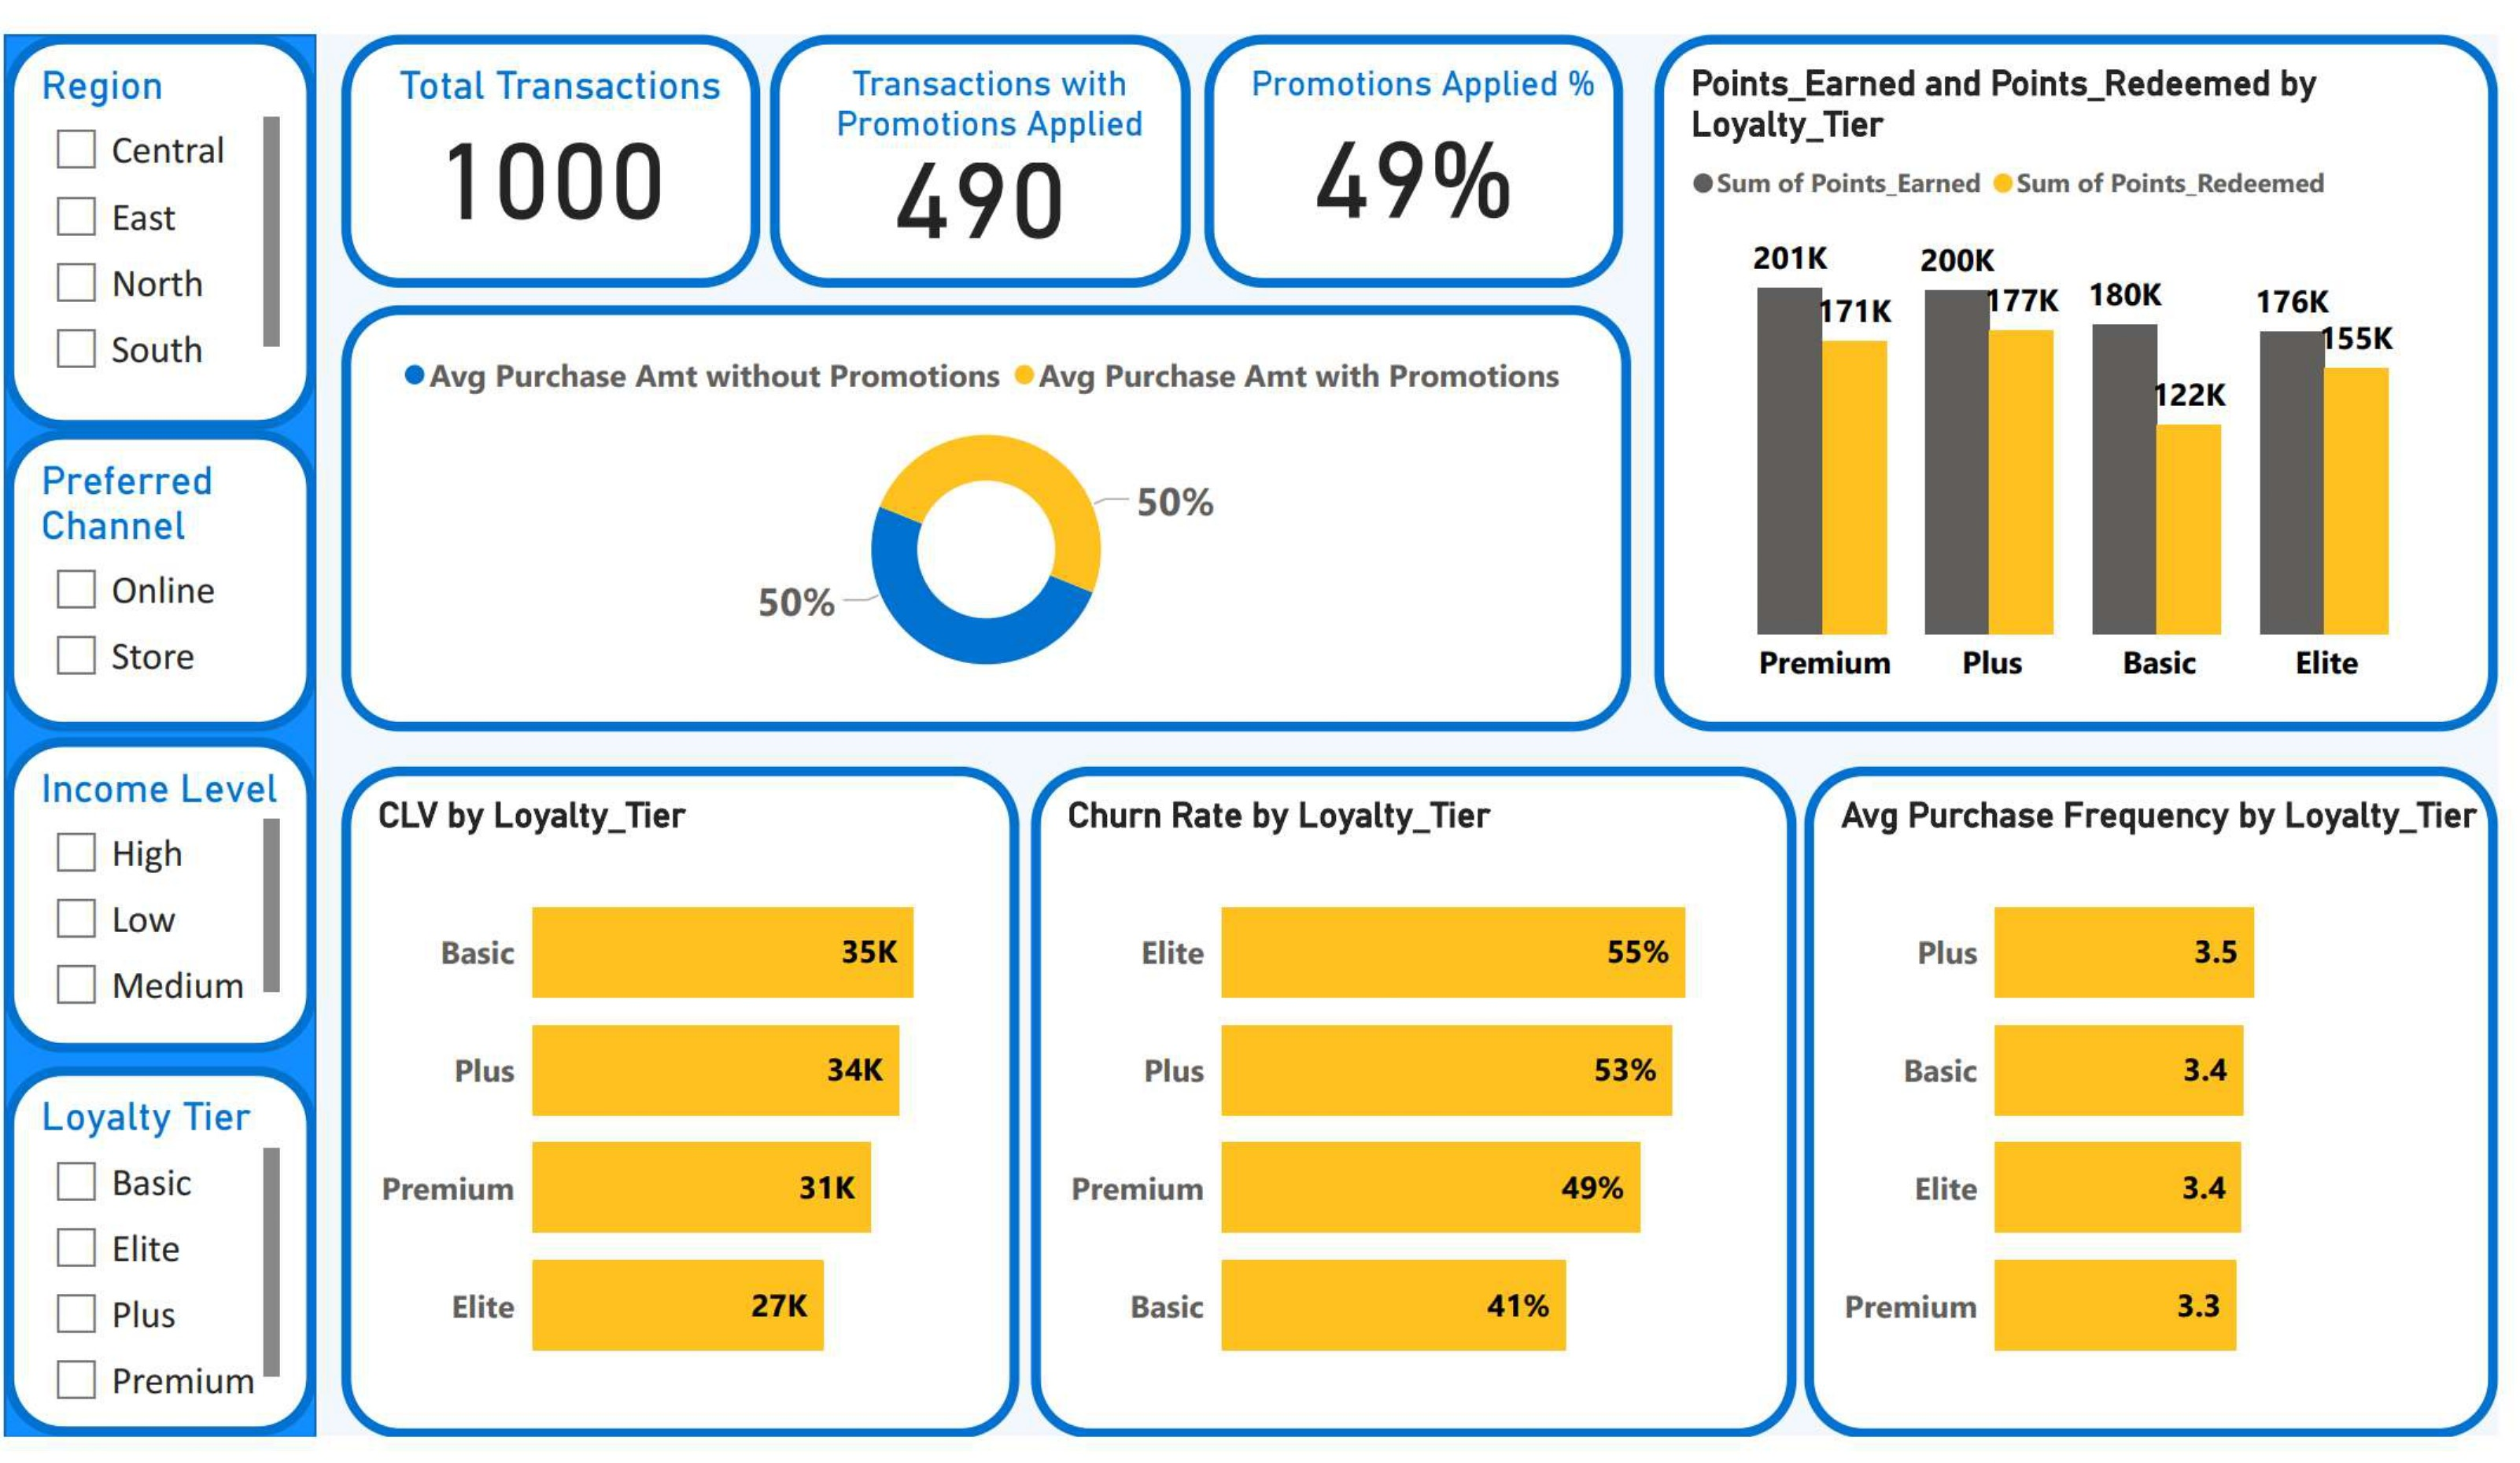

The page's visual inventory and layout, read from the dashboard file:
{"tool":"powerbi","page":{"name":"Loyalty/Promotional Impact","canvas":[1280,720],"ordinal":1},"visuals":[{"type":"card","title":"Transactions with Promotions Applied","fields":{"Values":["Measures (2).Transactions with Promotion Applied"]},"box":[393.3,0,215.4,129.9],"z":0},{"type":"card","title":"Total Transactions","fields":{"Values":["Measures (2).Total Transactions"]},"box":[172.6,0,215.4,129.9],"z":1000},{"type":"card","title":"Promotions Applied %","fields":{"Values":["Measures (2).Promotion Apllied %"]},"box":[615.8,0,215.4,129.9],"z":2000},{"type":"donutChart","title":"Avg Purchase Amt with/without Promotions","fields":{"Y":["Measures (2).Avg Purchase Amt without Promotions","Measures (2).Avg Purchase Amt with Promotions"]},"box":[172.6,138.8,662.1,218.9],"z":3000},{"type":"barChart","fields":{"Category":["Loyalty_Program.Loyalty_Tier"],"Y":["Measures (2).Churn Rate"]},"box":[526.8,375.5,393.3,345.3],"z":4000},{"type":"clusteredColumnChart","title":"Points_Earned and Points_Redeemed by Loyalty_Tier","fields":{"Category":["Loyalty_Program.Loyalty_Tier"],"Y":["Sum(Loyalty_Program.Points_Earned)","Sum(Loyalty_Program.Points_Redeemed)"]},"box":[847.2,0,432.5,357.7],"z":5000},{"type":"barChart","fields":{"Category":["Loyalty_Program.Loyalty_Tier"],"Y":["Measures (2).Avg Purchase Frequency"]},"box":[923.7,375.5,356,345.3],"z":6000},{"type":"shape","box":[0,0,160.2,720.8],"z":7000},{"type":"slicer","title":"Region","fields":{"Values":["Customer_Demographics.Region"]},"box":[0,0,160.1,203.4],"z":8000},{"type":"slicer","title":"Preferred Channel","fields":{"Values":["Customer_Demographics.Preferred_Channel"]},"box":[0,202.9,160.2,154.8],"z":9000},{"type":"slicer","title":"Income Level","fields":{"Values":["Customer_Demographics.Income_Level"]},"box":[0,361.3,160.2,162],"z":10000},{"type":"slicer","title":"Loyalty Tier","fields":{"Values":["Loyalty_Program.Loyalty_Tier"]},"box":[0,529.6,160.2,190.4],"z":11000},{"type":"barChart","title":"CLV by Loyalty_Tier","fields":{"Category":["Loyalty_Program.Loyalty_Tier"],"Y":["Sum(Customer_Demographics.CLV)"]},"box":[172.6,375.5,348.8,345.3],"z":12000}]}

Visuals, with their boxes in screenshot pixels (x1, y1, x2, y2):
"Transactions with Promotions Applied" card: x1=764, y1=26, x2=1182, y2=278
"Total Transactions" card: x1=335, y1=26, x2=753, y2=278
"Promotions Applied %" card: x1=1196, y1=26, x2=1614, y2=278
"Avg Purchase Amt with/without Promotions" donutChart: x1=335, y1=296, x2=1621, y2=720
barChart - Loyalty_Program.Loyalty_Tier x Measures (2).Churn Rate: x1=1023, y1=755, x2=1787, y2=1425
"Points_Earned and Points_Redeemed by Loyalty_Tier" clusteredColumnChart: x1=1645, y1=26, x2=2485, y2=720
barChart - Loyalty_Program.Loyalty_Tier x Measures (2).Avg Purchase Frequency: x1=1793, y1=755, x2=2485, y2=1425
shape: x1=0, y1=26, x2=311, y2=1425
"Region" slicer: x1=0, y1=26, x2=311, y2=421
"Preferred Channel" slicer: x1=0, y1=420, x2=311, y2=720
"Income Level" slicer: x1=0, y1=728, x2=311, y2=1042
"Loyalty Tier" slicer: x1=0, y1=1054, x2=311, y2=1424
"CLV by Loyalty_Tier" barChart: x1=335, y1=755, x2=1013, y2=1425
